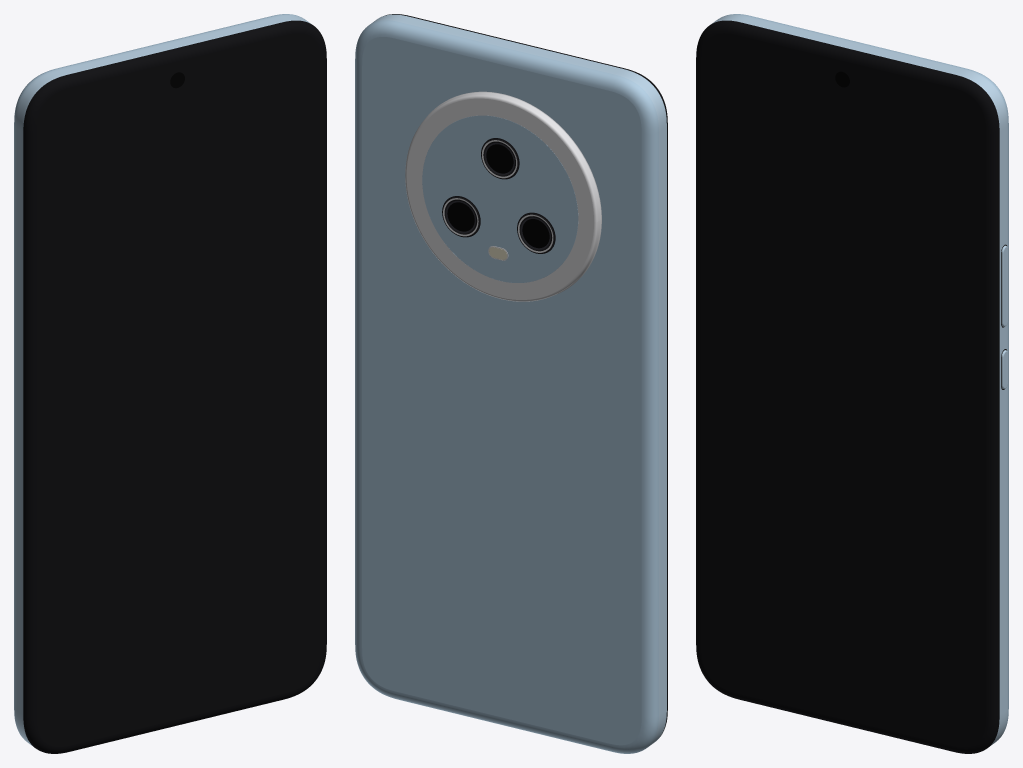
Rendered from honor-magic5.glb.
The picture shows the model from 3 angles, left to right: view 1: azimuth 30°, elevation 25°; view 2: azimuth 150°, elevation 25°; view 3: azimuth 330°, elevation 25°; orthographic projection.
Visible parts, largest first — view 1: body; view 2: body, camera; view 3: body, buttons.
Part boxes in pixels (x1=…): body: x1=14, y1=14, x2=326, y2=753; body: x1=355, y1=14, x2=667, y2=753; camera: x1=405, y1=91, x2=601, y2=301; body: x1=696, y1=14, x2=1008, y2=753; buttons: x1=1001, y1=244, x2=1008, y2=389.
Size of the model in its own units: 75.93 by 161 by 10.12.
